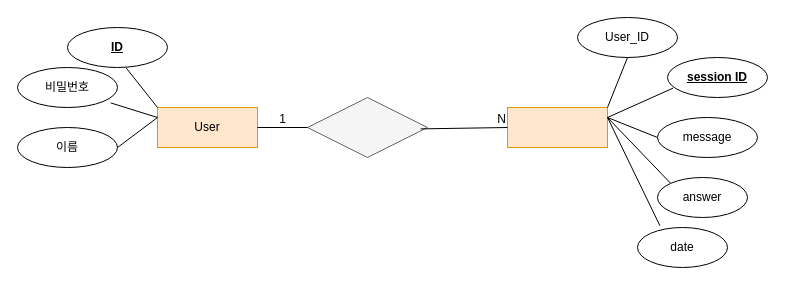
Image size: 785x285. Some labels were removed from this diagram. Here are the shapes that lost their labels. From the top down, the centre of each, then its label:
At point 367,127: "입력".
At point 557,127: "Dialog".
